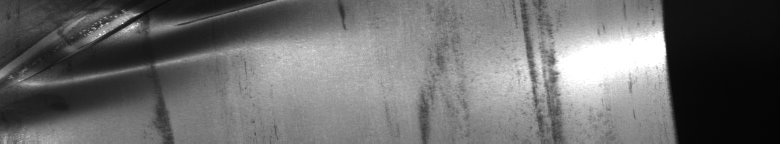ke: (4, 4, 275, 136)
